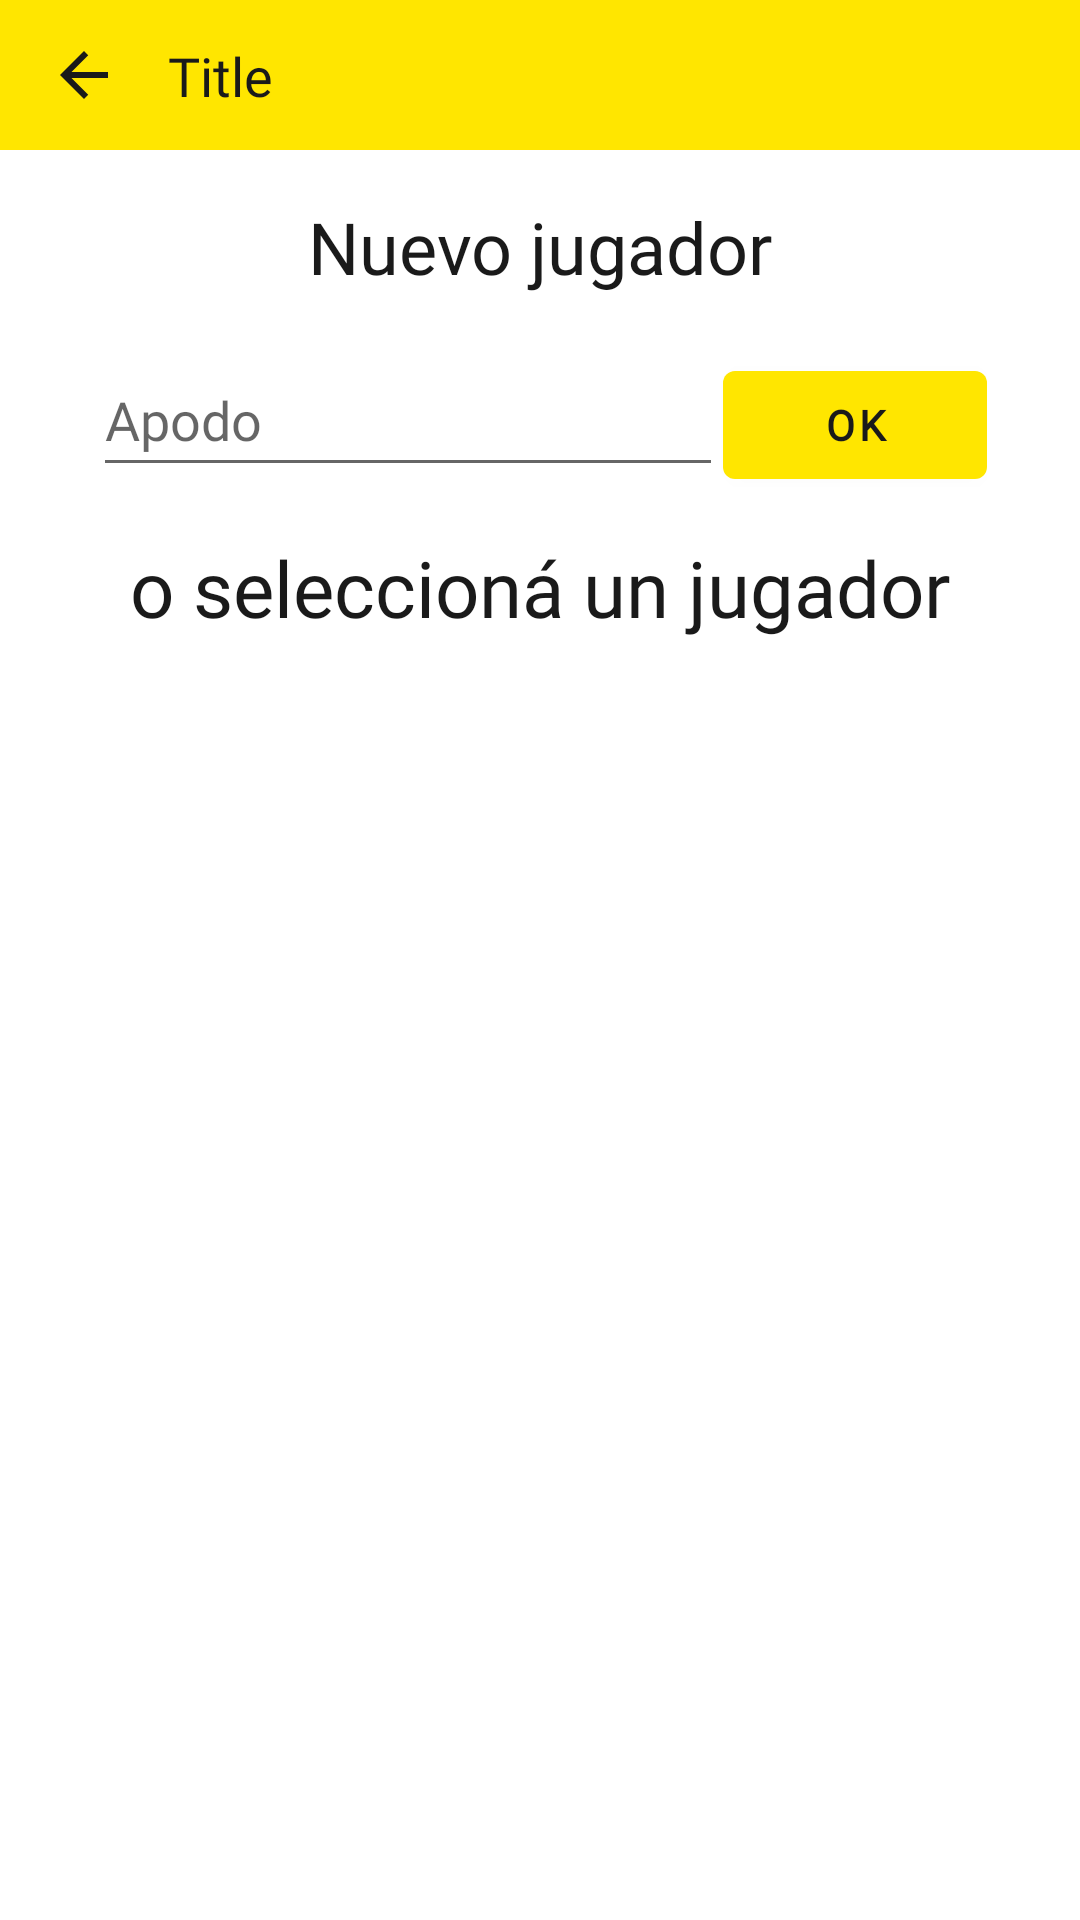

Icons on this 1080*1920 Android screen, each with its box as (left=x1, top=y1, right=x2, bottom=y2):
arrow back: (left=60, top=51, right=108, bottom=99)
